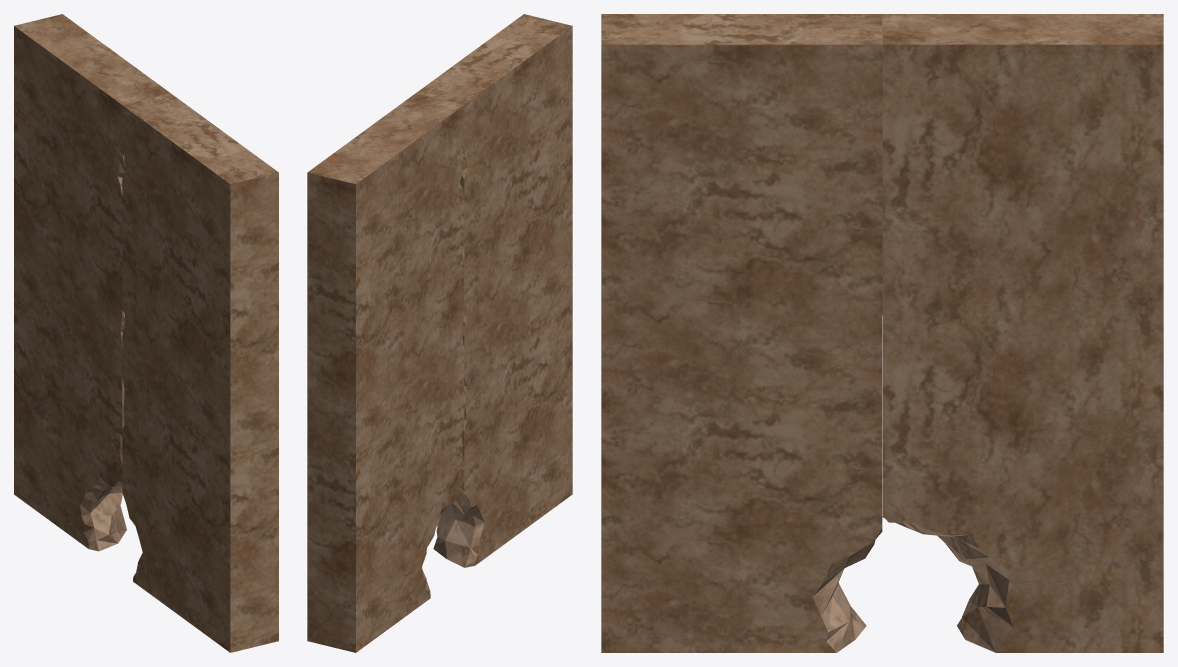
The model's file is Temple Entrance Doors.fbx.
3 views of the same model, side by side, from view 1: azimuth 30°, elevation 25°; view 2: azimuth 150°, elevation 25°; view 3: azimuth 270°, elevation 25° (orthographic). The views are drawn at different scales.
Visible parts, largest first — view 1: Entrance.002, Entrance.004; view 2: Entrance.004, Entrance.002; view 3: Entrance.002, Entrance.004.
Part boxes in pixels (x1,y1,x2,y2): Entrance.002: [122, 93, 278, 652]; Entrance.004: [14, 14, 170, 551]; Entrance.004: [307, 93, 464, 652]; Entrance.002: [416, 14, 572, 567]; Entrance.002: [601, 14, 882, 652]; Entrance.004: [882, 14, 1163, 652].
Size of the model in its own units: 88.27 by 813 by 681.
